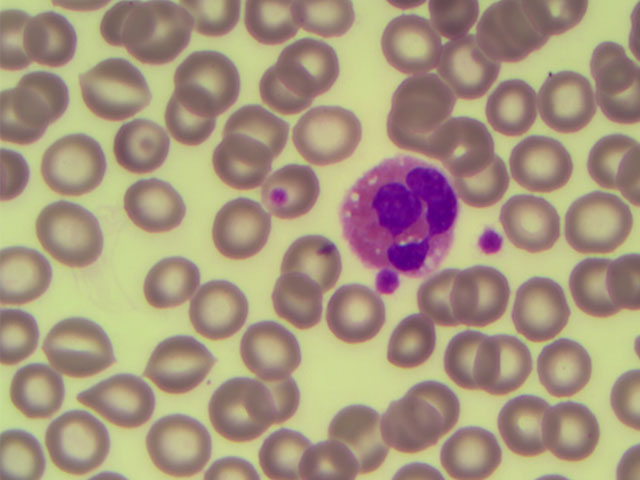Platelets: (479, 231, 505, 255), (376, 275, 399, 293)
RBC: (564, 190, 633, 259), (147, 414, 216, 472), (40, 208, 104, 262), (387, 395, 451, 449), (330, 412, 394, 466), (245, 371, 309, 425), (322, 285, 386, 339), (279, 235, 343, 289), (263, 272, 327, 326), (276, 37, 340, 91), (132, 2, 196, 56), (173, 56, 237, 110), (206, 133, 270, 187), (203, 199, 267, 253), (7, 361, 71, 415), (43, 131, 107, 185), (10, 73, 74, 127), (207, 382, 271, 436), (241, 320, 305, 374), (48, 412, 112, 466), (89, 370, 153, 424), (147, 337, 211, 391), (187, 281, 251, 335), (138, 253, 202, 307), (107, 120, 171, 174), (85, 63, 149, 117), (49, 315, 113, 369), (119, 180, 183, 234), (18, 15, 82, 68), (446, 263, 506, 319), (474, 337, 530, 394), (442, 328, 497, 385), (539, 341, 594, 398), (568, 259, 623, 316), (501, 396, 556, 453), (441, 423, 496, 480), (385, 74, 452, 120), (257, 64, 324, 110), (228, 107, 295, 153), (300, 110, 367, 156), (542, 400, 598, 452), (481, 84, 544, 130), (387, 19, 444, 69), (512, 141, 569, 191), (502, 196, 559, 246), (269, 163, 319, 219), (440, 117, 490, 173), (99, 1, 156, 50), (481, 1, 538, 50), (522, 280, 568, 339), (1, 240, 45, 301), (542, 74, 594, 124), (259, 429, 315, 474), (445, 39, 493, 91), (242, 1, 298, 43), (385, 311, 434, 359), (462, 151, 509, 201), (591, 131, 640, 177), (304, 440, 360, 480), (1, 427, 43, 480), (594, 44, 640, 89), (1, 304, 37, 360), (594, 71, 640, 114), (421, 269, 462, 317), (300, 1, 357, 35), (606, 252, 640, 307), (385, 111, 437, 146), (409, 376, 456, 412), (193, 1, 238, 37), (612, 373, 640, 430), (528, 1, 586, 28), (1, 151, 31, 194), (209, 453, 255, 480), (1, 13, 25, 63), (618, 153, 640, 196), (623, 1, 640, 56), (616, 447, 640, 480), (41, 1, 118, 11), (394, 461, 434, 480), (76, 467, 126, 480), (534, 470, 591, 480), (626, 333, 640, 356), (393, 1, 423, 9)
WBC: (344, 155, 461, 269)
